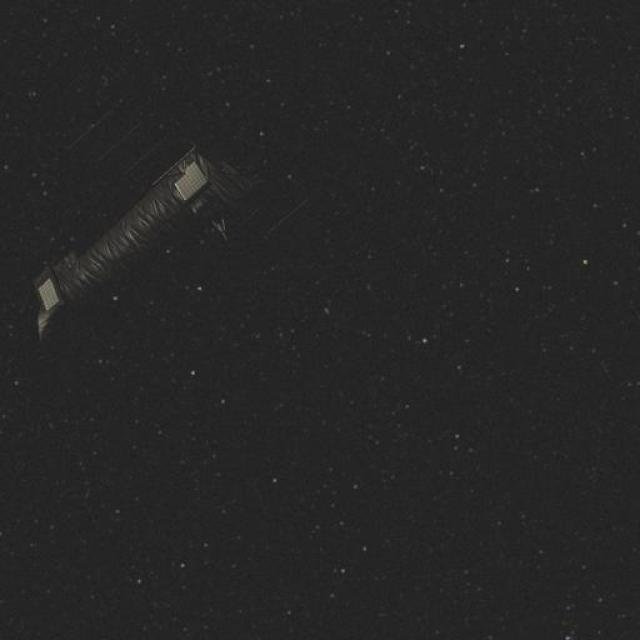xmm_newton: (20, 122, 293, 348)
